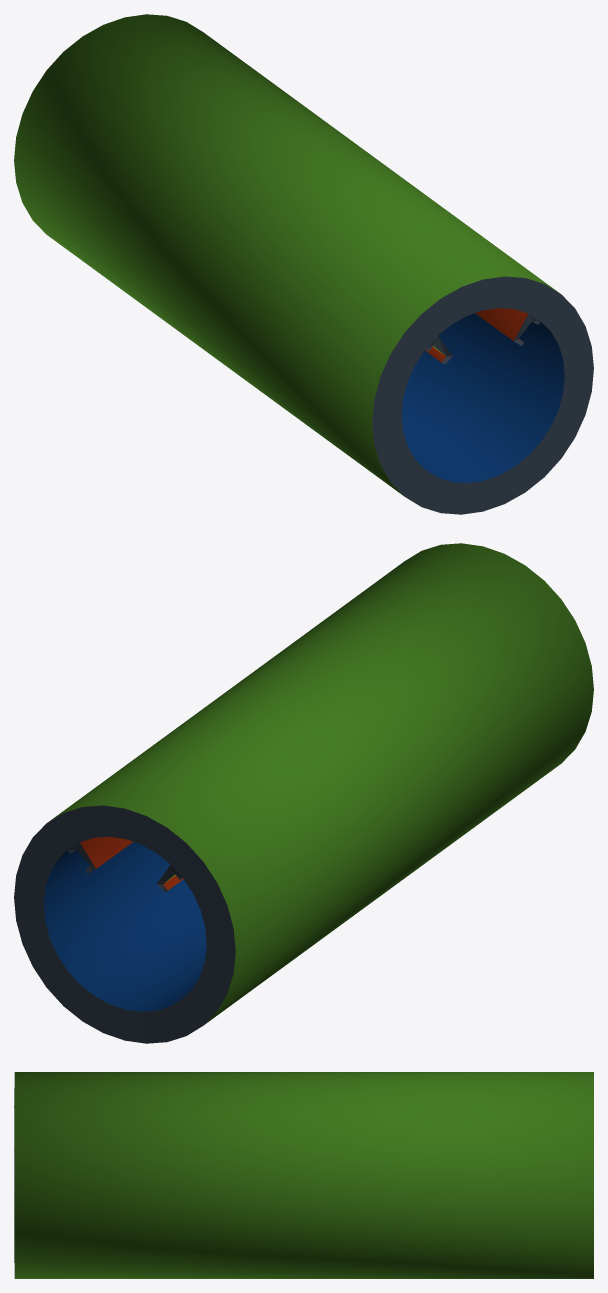
The model's file is Straight_Tube.fbx.
3 renders of one model, top to bottom at view 1: azimuth 30°, elevation 25°; view 2: azimuth 150°, elevation 25°; view 3: azimuth 270°, elevation 25°, orthographic. The views are drawn at different scales.
Visible parts, largest first — view 1: TubeStraight; view 2: TubeStraight; view 3: TubeStraight.
Boxes of the visible parts, x1,y1,x2,y2 form: TubeStraight: (14, 14, 593, 514); TubeStraight: (14, 543, 593, 1043); TubeStraight: (14, 1072, 593, 1278).
Bounding box in the file's own units: 4000 × 4000 × 11201.
